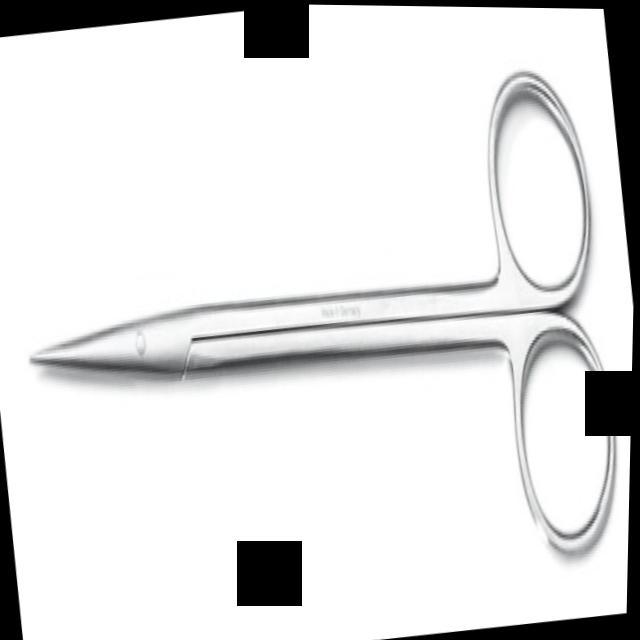Metzenbaum Sciccors: (0, 43, 639, 631)
